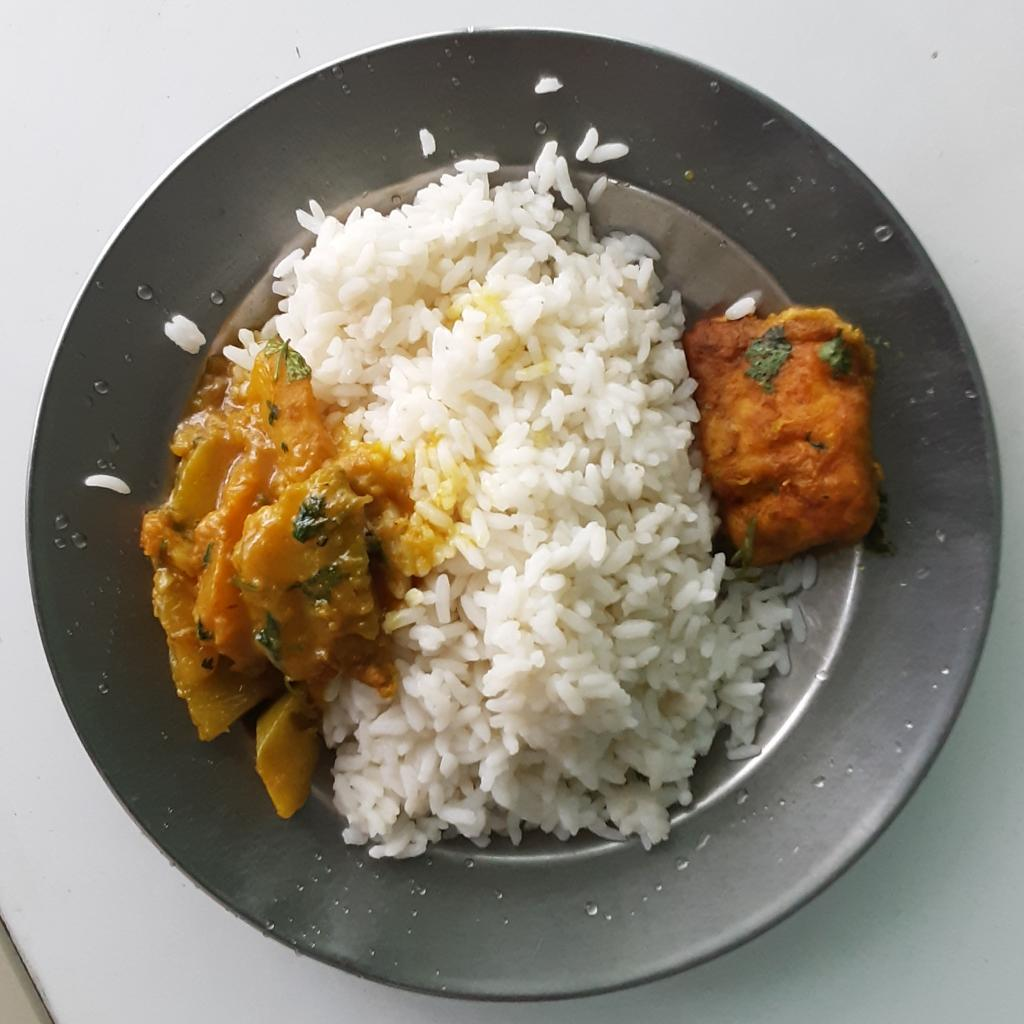fish: (687, 296, 885, 564)
khichuri: (139, 343, 376, 825)
rice: (223, 126, 820, 862)
